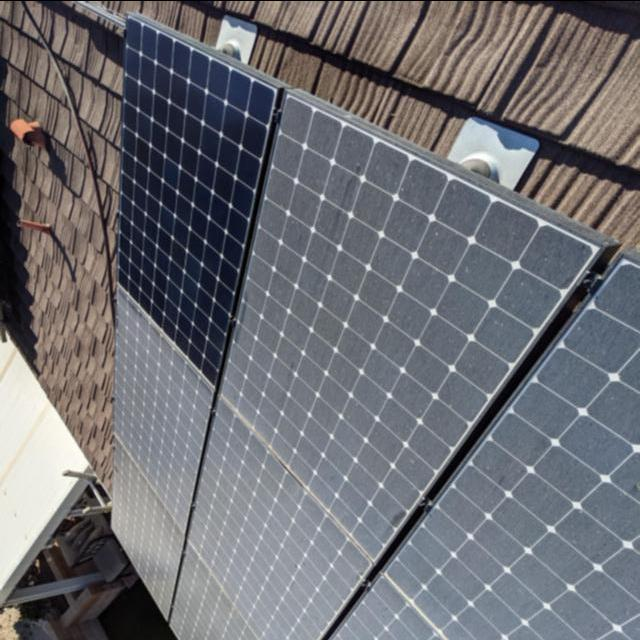soiled: (182, 105, 640, 638), (109, 289, 213, 605)
